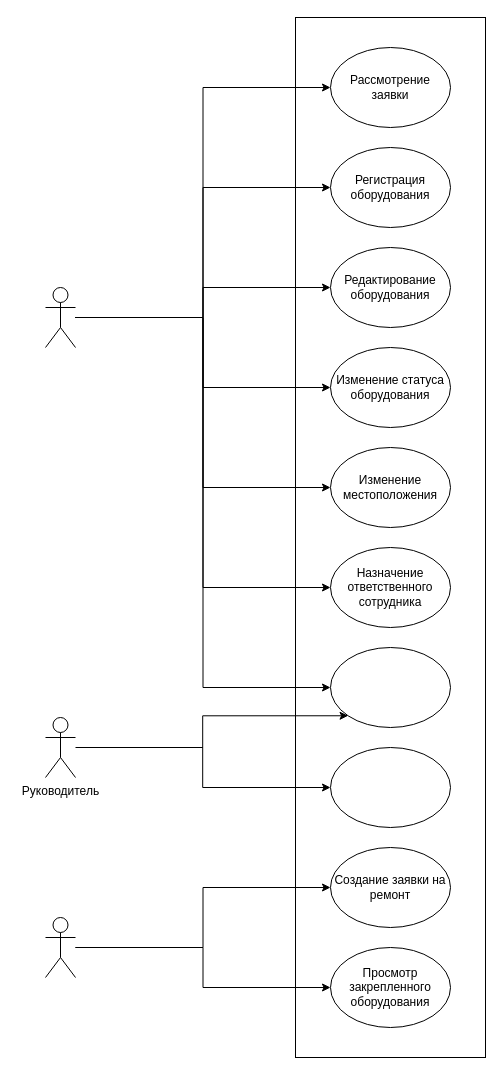
Image size: 503x1075. Some labels were removed from this diagram. The shapes that lost their labels are listed below. From the top down, each one's centre as x and y in pixels, then its label:
At pixel 60 317: "Администратор".
At pixel 390 687: "Поиск и фильтрация".
At pixel 390 787: "Просмотр истории изменений".
At pixel 60 947: "Сотрудник".
